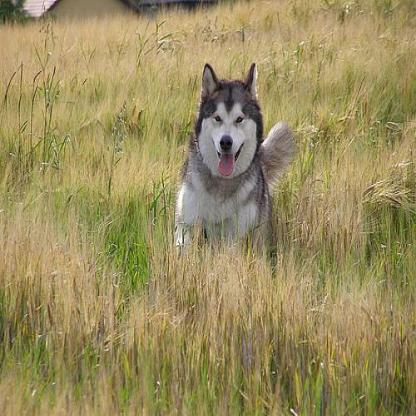malamute: (175, 59, 293, 252)
